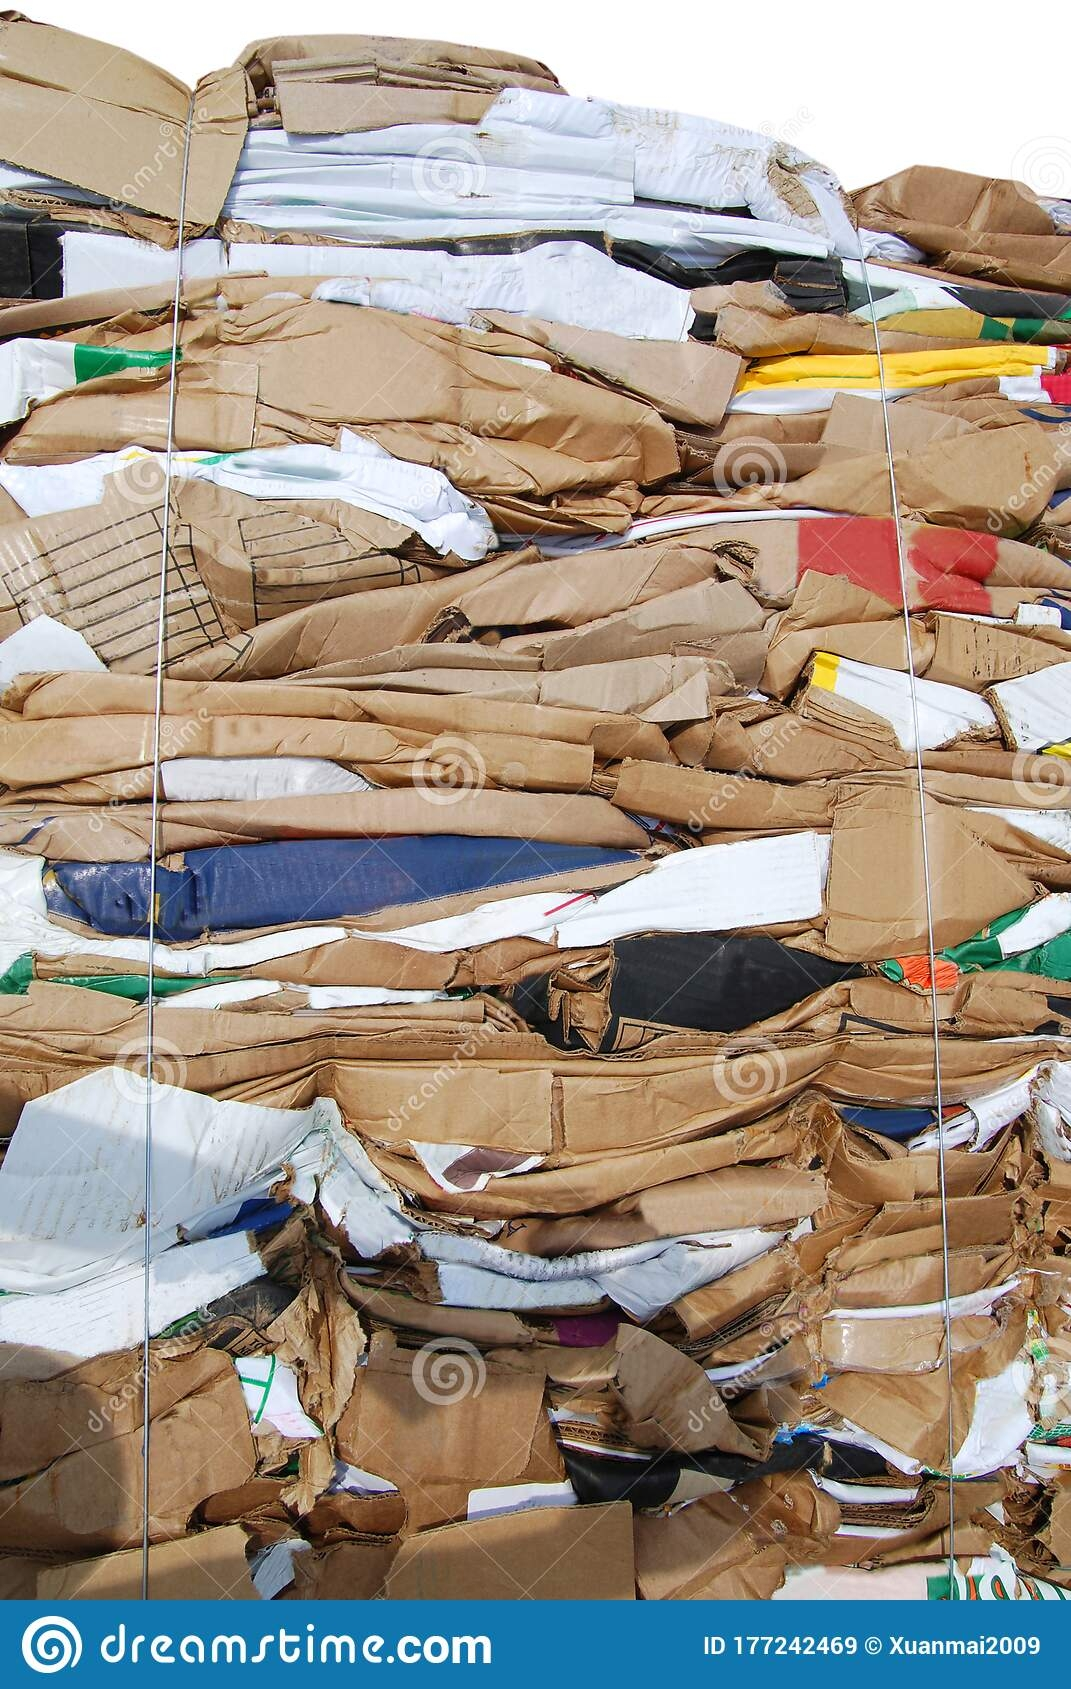paper: (6, 964, 1071, 1168), (20, 302, 760, 543), (204, 501, 1071, 702), (1, 1057, 417, 1386), (2, 660, 652, 851), (1, 453, 441, 713), (23, 197, 724, 353), (764, 1120, 1071, 1475), (638, 657, 1045, 837), (1, 14, 252, 244), (1, 1339, 265, 1556), (799, 778, 1057, 960), (815, 158, 1071, 313), (243, 27, 590, 129), (359, 1501, 655, 1602)
